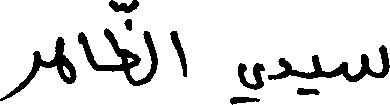ا: (78, 29, 97, 71), (169, 29, 185, 78)
د: (267, 56, 289, 80)
ر: (0, 49, 39, 102)
س: (343, 43, 389, 82)
ظ: (104, 15, 140, 86)
ل: (142, 29, 157, 84)
ه: (54, 35, 75, 84)
ي: (229, 60, 262, 103), (297, 53, 323, 96)
